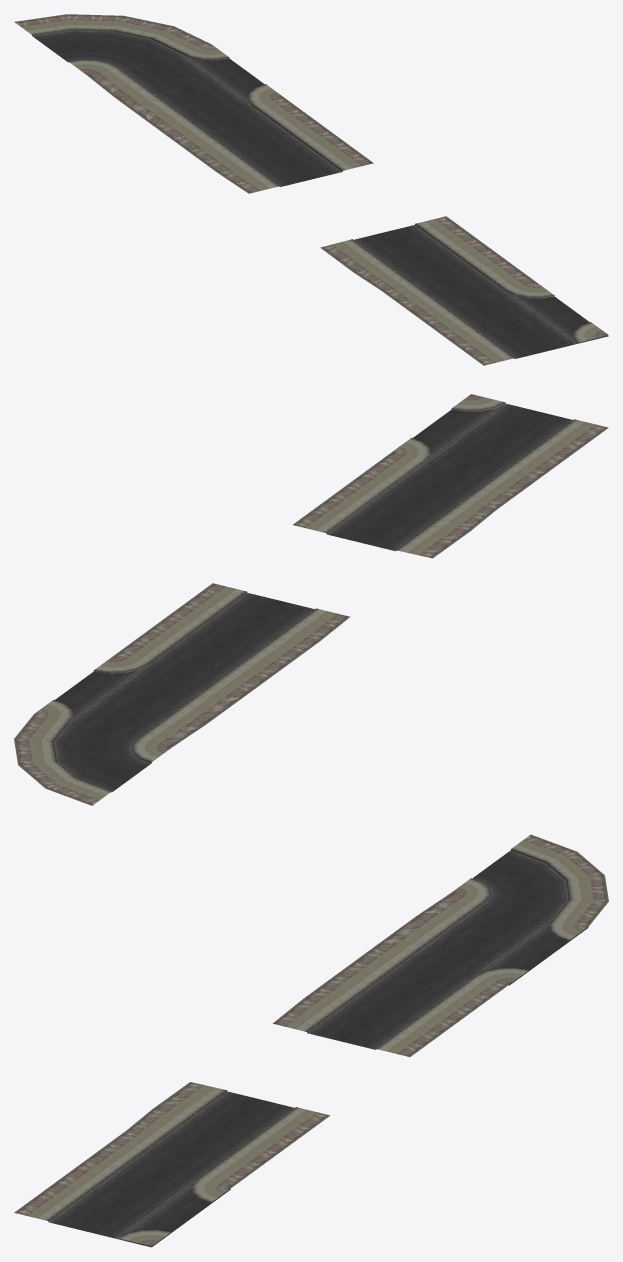
The model's file is cuntsrod08.obj.
3 renders of one model, top to bottom at view 1: azimuth 30°, elevation 25°; view 2: azimuth 150°, elevation 25°; view 3: azimuth 330°, elevation 25°, orthographic. The views are drawn at different scales.
Parts seen in each view (by area): view 1: cuntsrod08; view 2: cuntsrod08; view 3: cuntsrod08.
Boxes of the visible parts, box(x1,y1,x2,y2) form: cuntsrod08: box(14, 14, 608, 365); cuntsrod08: box(14, 394, 608, 805); cuntsrod08: box(14, 834, 608, 1247).
Size of the model in its own units: 20.34 by 0.1646 by 130.
Materials: 4 (4 with a texture image).
